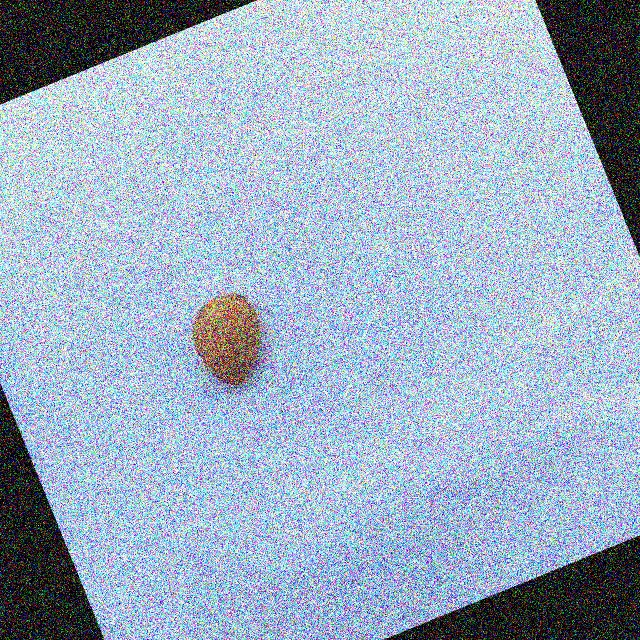grade2: (176, 280, 287, 399)
